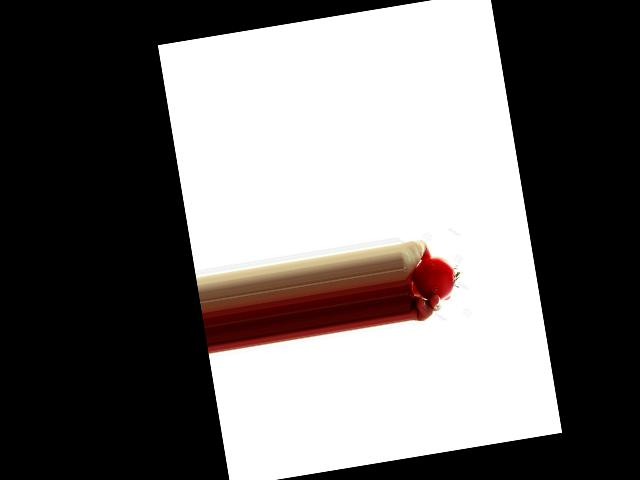tomato: (410, 254, 459, 304)
